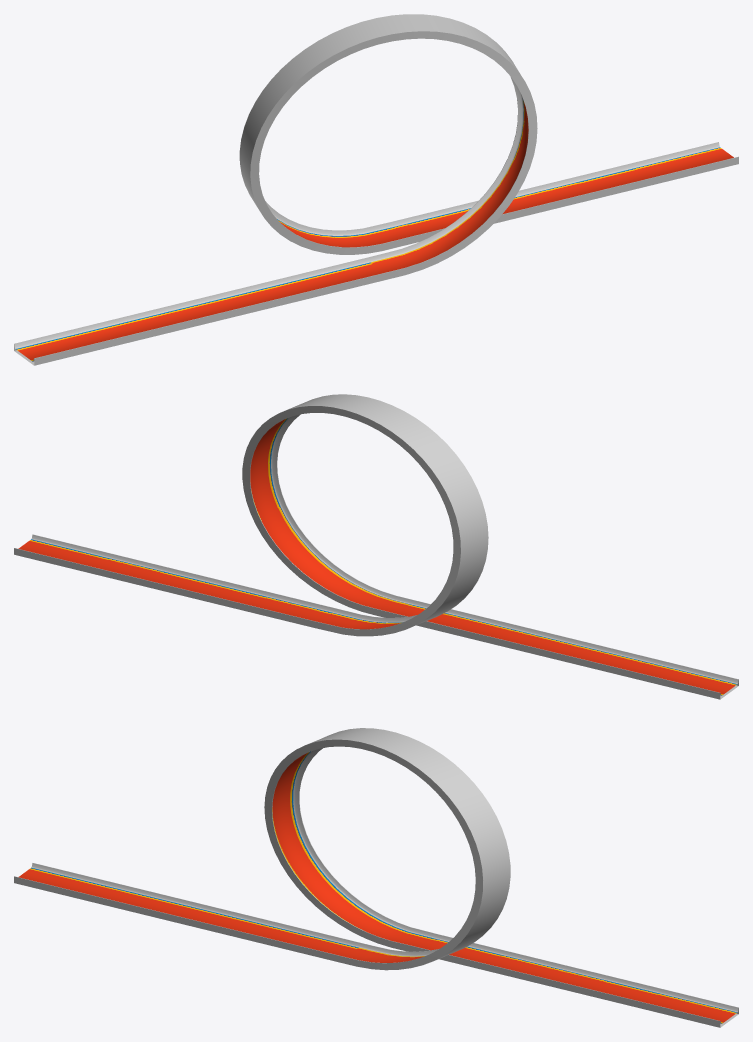
The picture shows the model from 3 angles, top to bottom: view 1: azimuth 30°, elevation 25°; view 2: azimuth 150°, elevation 25°; view 3: azimuth 330°, elevation 25°; orthographic projection. The views are drawn at different scales.
Visible parts, largest first — view 1: Box002; view 2: Box002; view 3: Box002.
Part boxes in pixels (bbox=[...]): Box002: bbox=[14, 14, 738, 365]; Box002: bbox=[14, 394, 738, 699]; Box002: bbox=[14, 728, 738, 1027].
Bounding box in the file's own units: 23752 × 7079 × 2841.
